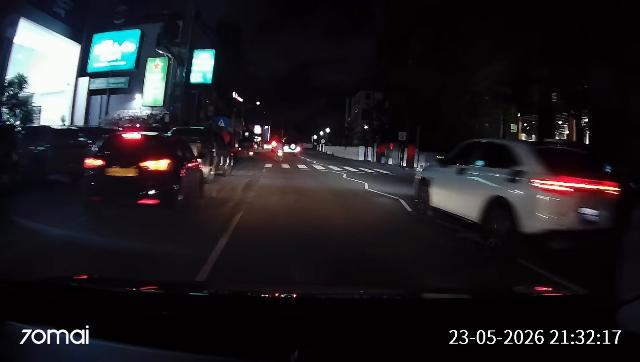illegal overtaking: (401, 124, 615, 258)
